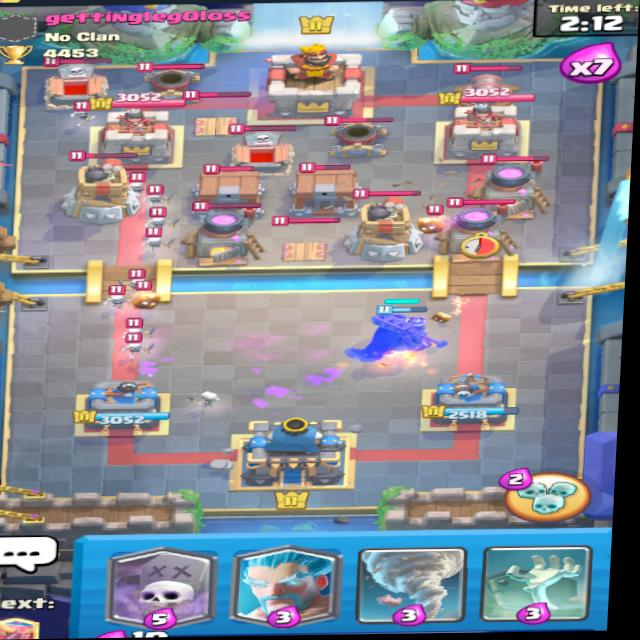bomb-tower: (62, 145, 145, 226), (348, 184, 425, 263)
cannon: (447, 60, 530, 109)
fire-spirit: (128, 283, 170, 318), (409, 208, 450, 242)
furnace: (468, 148, 564, 225), (436, 192, 526, 262), (372, 151, 457, 224), (180, 196, 266, 266)
goblin-cage: (286, 158, 363, 220), (191, 161, 274, 214)
mortar: (136, 49, 213, 102), (320, 112, 392, 161)
skeleton: (116, 327, 154, 363), (125, 262, 159, 293), (95, 283, 131, 311), (136, 223, 171, 249), (117, 317, 153, 342), (62, 98, 98, 123), (144, 206, 177, 230), (149, 183, 177, 206)
tesla-closed: (172, 85, 256, 140), (267, 213, 343, 263)
tombstone: (31, 45, 126, 109), (222, 121, 303, 176)
